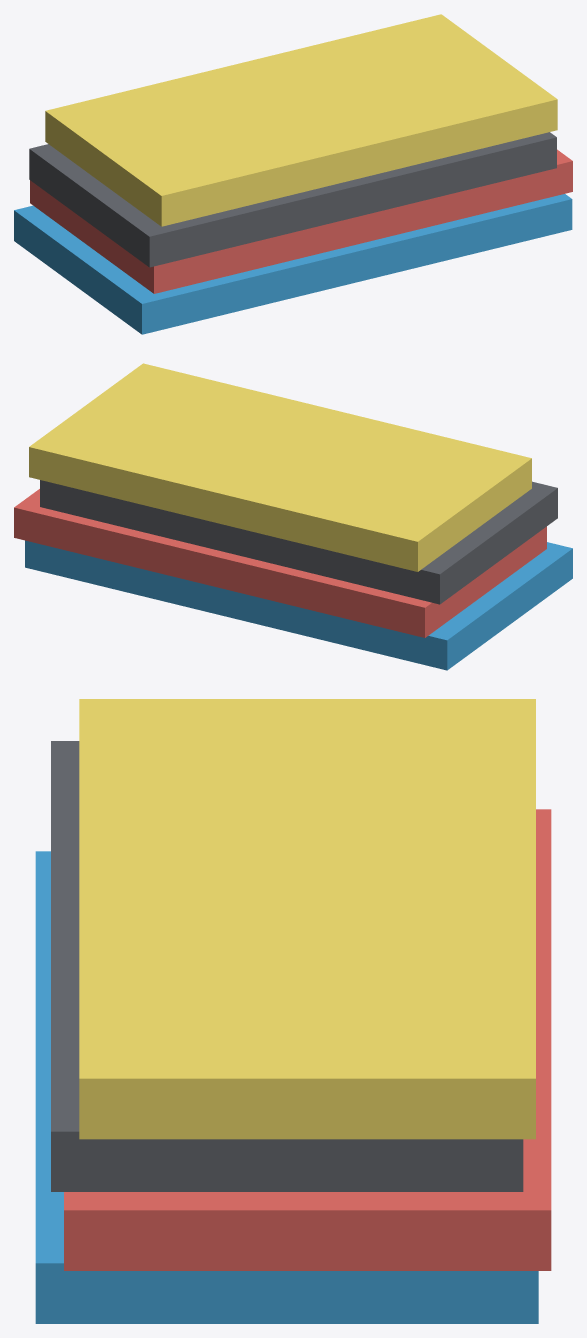
The model's file is velodrome-and-track-cycling-mat-stack-7fcbe043.glb.
The picture shows the model from 3 angles, top to bottom: view 1: azimuth 30°, elevation 25°; view 2: azimuth 150°, elevation 25°; view 3: azimuth 270°, elevation 25°; orthographic projection. The views are drawn at different scales.
Parts seen in each view (by area): view 1: mat-stack-canary, mat-stack-azure, mat-stack-charcoal, mat-stack-red; view 2: mat-stack-canary, mat-stack-red, mat-stack-azure, mat-stack-charcoal; view 3: mat-stack-canary, mat-stack-red, mat-stack-charcoal, mat-stack-azure.
Boxes of the visible parts, x1,y1,x2,y2 form: mat-stack-canary: (45, 14, 557, 226); mat-stack-azure: (14, 194, 572, 334); mat-stack-charcoal: (29, 132, 556, 267); mat-stack-red: (30, 149, 572, 293); mat-stack-canary: (29, 363, 531, 571); mat-stack-red: (14, 489, 546, 637); mat-stack-azure: (25, 540, 572, 670); mat-stack-charcoal: (40, 480, 557, 604); mat-stack-canary: (79, 699, 535, 1139); mat-stack-red: (64, 809, 551, 1270); mat-stack-charcoal: (51, 741, 523, 1191); mat-stack-azure: (35, 851, 538, 1323).
Size of the model in its own units: 1.94 by 0.5199 by 1.01.
